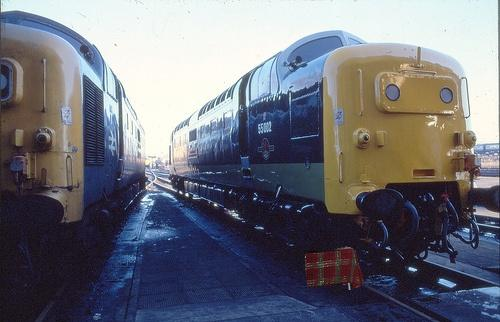tampered: (306, 247, 364, 290)
